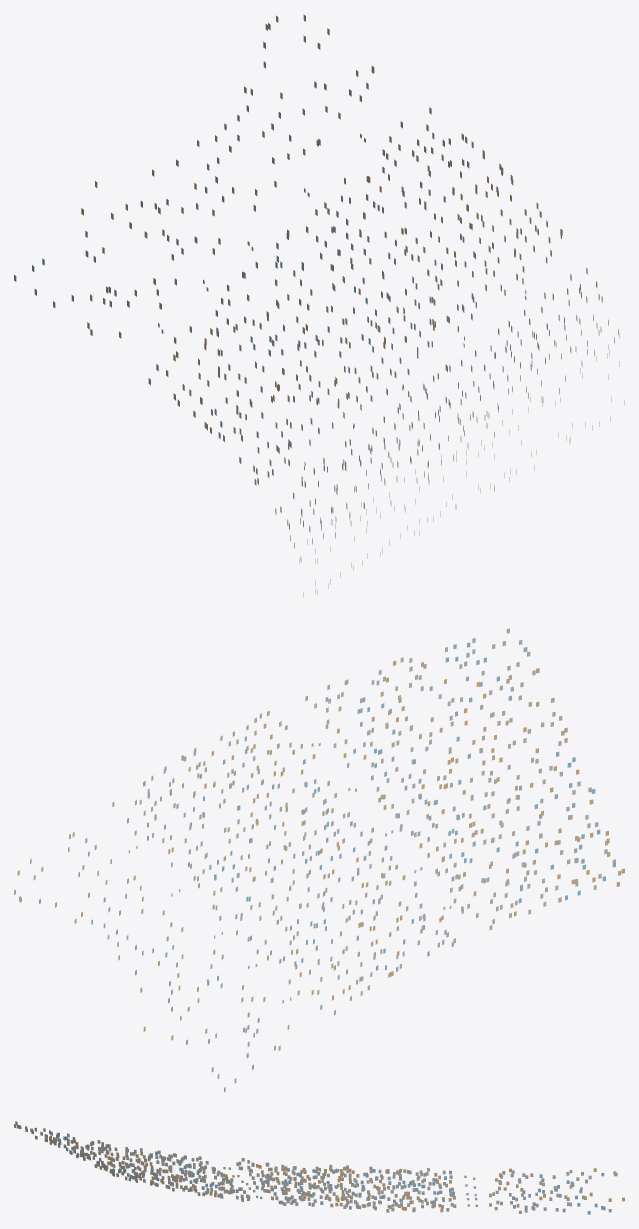
Rendered from UpperPhones8.obj.
The picture shows the model from 3 angles, top to bottom: view 1: azimuth 30°, elevation 25°; view 2: azimuth 150°, elevation 25°; view 3: azimuth 270°, elevation 25°; orthographic projection. The views are drawn at different scales.
Parts seen in each view (by area): view 1: UpperPhones8; view 2: UpperPhones8; view 3: UpperPhones8.
Part boxes in pixels (x1=…): UpperPhones8: x1=14, y1=14, x2=624, y2=597; UpperPhones8: x1=14, y1=628, x2=624, y2=1092; UpperPhones8: x1=14, y1=1121, x2=624, y2=1214.
Size of the model in its own units: 31.68 by 16.39 by 70.31.
1 material, 1 textured.
